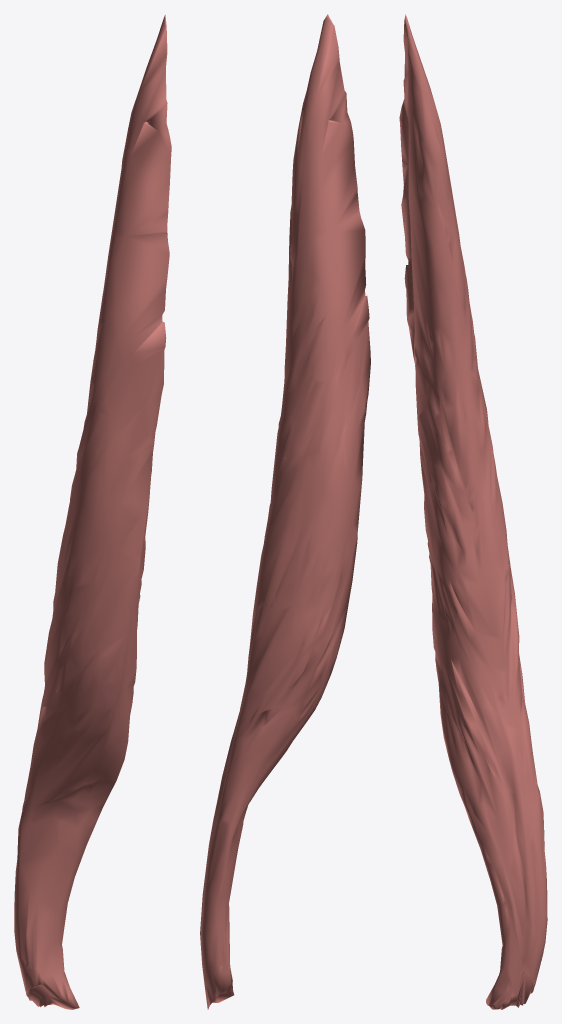
3 views of the same model, side by side, from view 1: azimuth 90°, elevation 25°; view 2: azimuth 150°, elevation 25°; view 3: azimuth 270°, elevation 25° (orthographic). The views are drawn at different scales.
Visible parts, largest first — view 1: ZA_8545551153bb563e; view 2: ZA_8545551153bb563e; view 3: ZA_8545551153bb563e.
Part boxes in pixels (x1,y1,x2,y2): ZA_8545551153bb563e: [14, 14, 171, 1009]; ZA_8545551153bb563e: [200, 14, 370, 1009]; ZA_8545551153bb563e: [399, 14, 547, 1009].
Bounding box in the file's own units: 0.0368 × 0.3013 × 0.0419.
